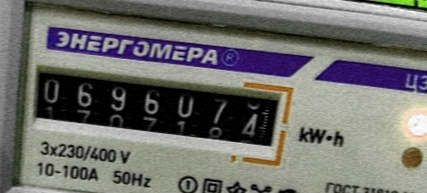0: (40, 74, 64, 104), (176, 88, 197, 119), (76, 79, 96, 106)
4: (240, 109, 260, 139)
6: (141, 84, 163, 116)
7: (208, 93, 230, 124)
9: (108, 82, 130, 112)
screen: (15, 49, 297, 166)
